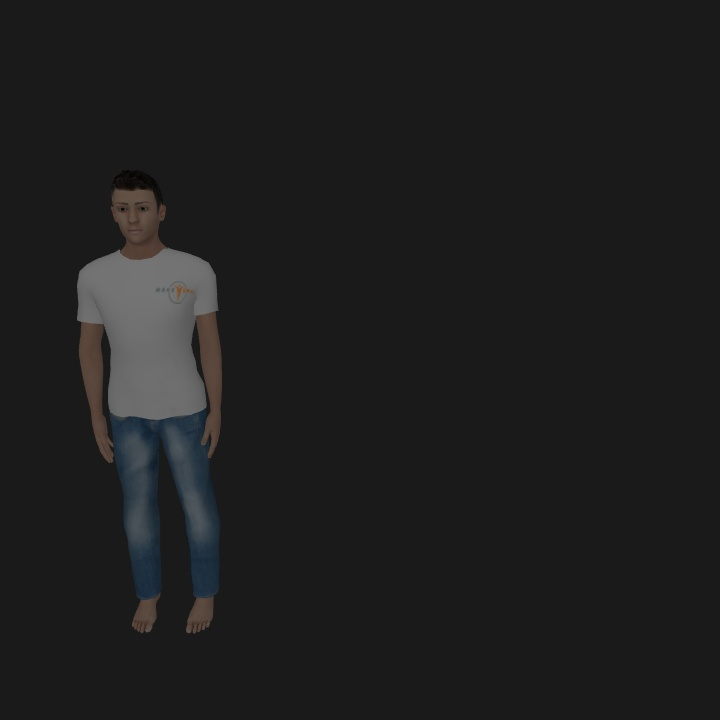victim: (78, 170, 219, 632)
